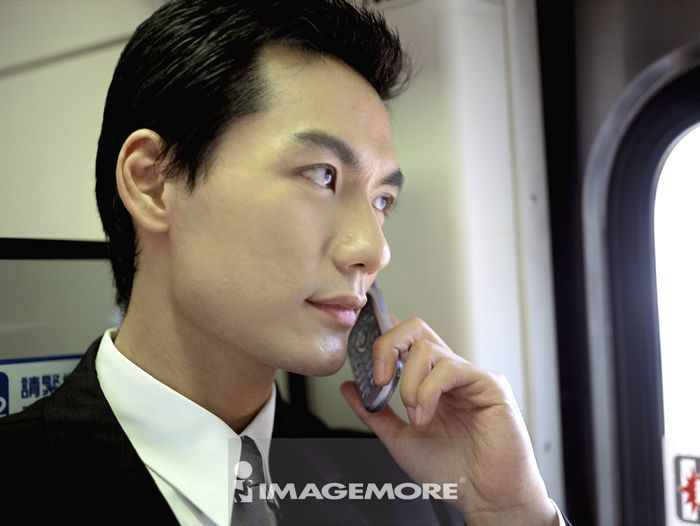talk: (257, 116, 542, 526)
